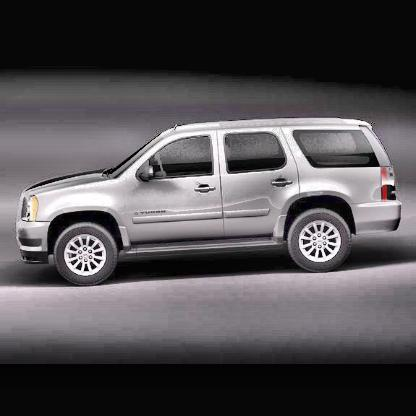GMC Yukon Hybrid SUV 2012: (18, 117, 403, 289)
